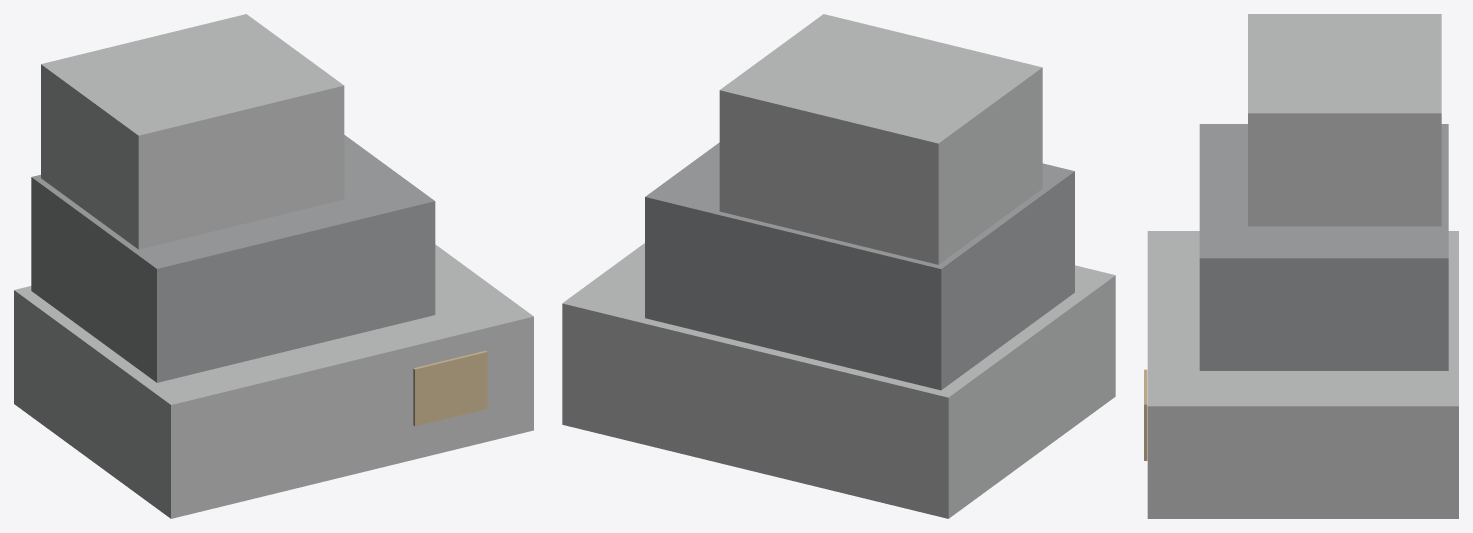
File: penthouse-terraces.glb
3 views of the same model, side by side, from view 1: azimuth 30°, elevation 25°; view 2: azimuth 150°, elevation 25°; view 3: azimuth 270°, elevation 25° (orthographic). The views are drawn at different scales.
Parts seen in each view (by area): view 1: geometry_0, geometry_1, geometry_2, geometry_3; view 2: geometry_0, geometry_2, geometry_1; view 3: geometry_0, geometry_1, geometry_2, geometry_3.
Part boxes in pixels (<box>): geometry_0: <box>14,244,533,518</box>; geometry_1: <box>31,135,435,382</box>; geometry_2: <box>41,14,344,249</box>; geometry_3: <box>413,350,487,426</box>; geometry_0: <box>562,243,1115,518</box>; geometry_2: <box>719,14,1042,264</box>; geometry_1: <box>645,142,1074,390</box>; geometry_0: <box>1147,231,1458,518</box>; geometry_1: <box>1199,124,1448,370</box>; geometry_2: <box>1248,14,1441,226</box>; geometry_3: <box>1144,369,1147,460</box>.
Bounding box in the file's own units: 6 × 5.4 × 4.56.
